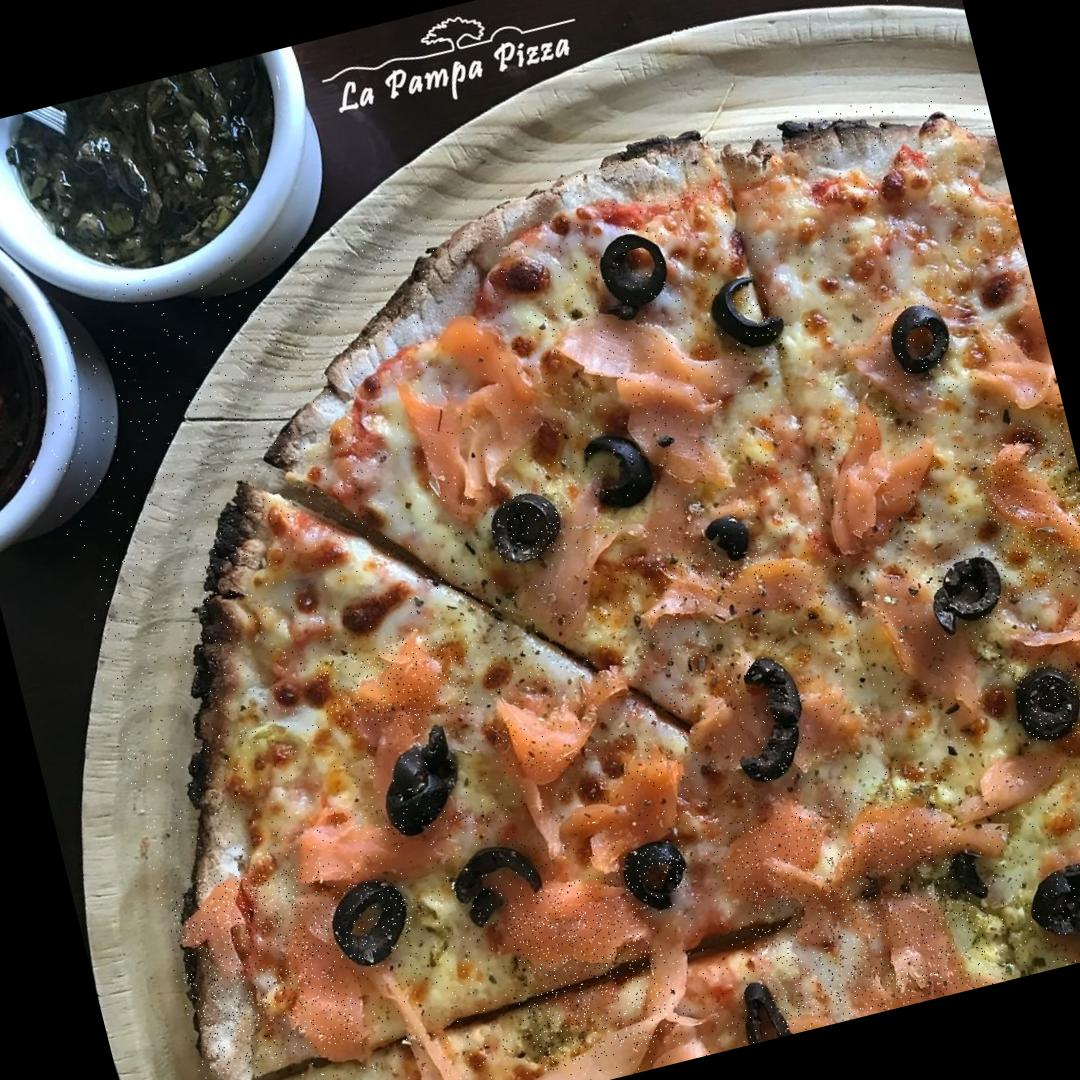Ham: (726, 770, 997, 1037), (168, 859, 365, 1074), (368, 298, 558, 512), (575, 290, 776, 486), (502, 866, 684, 1073), (756, 386, 966, 558), (603, 518, 850, 662), (498, 672, 682, 854), (969, 421, 1080, 601), (314, 628, 472, 744), (1011, 822, 1080, 972)
Olives: (722, 645, 830, 778), (370, 722, 495, 824), (366, 730, 467, 838), (587, 238, 696, 324), (323, 872, 418, 964), (928, 551, 1020, 640), (876, 296, 960, 386), (1009, 862, 1080, 963), (486, 484, 570, 564), (466, 862, 550, 939), (1011, 659, 1080, 742), (582, 428, 648, 506), (623, 840, 694, 904), (713, 284, 778, 346)
Pizza: (9, 70, 1080, 1080)
